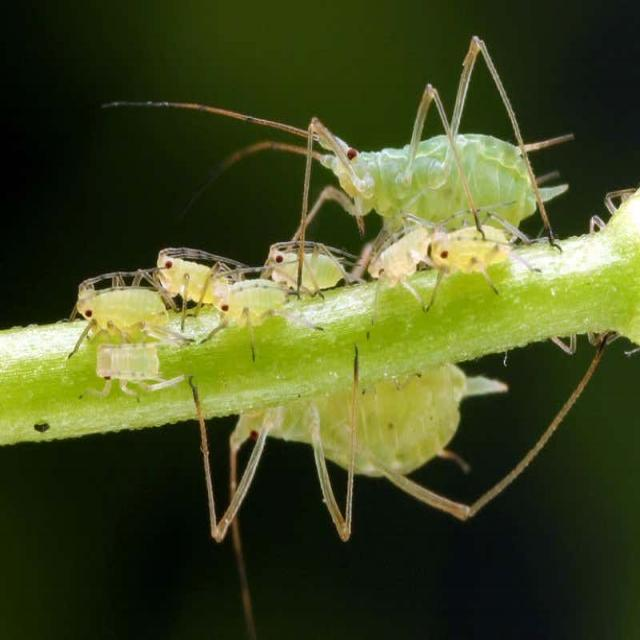Aphid-Grown-: (293, 98, 564, 250), (62, 274, 170, 337), (259, 232, 353, 300)
